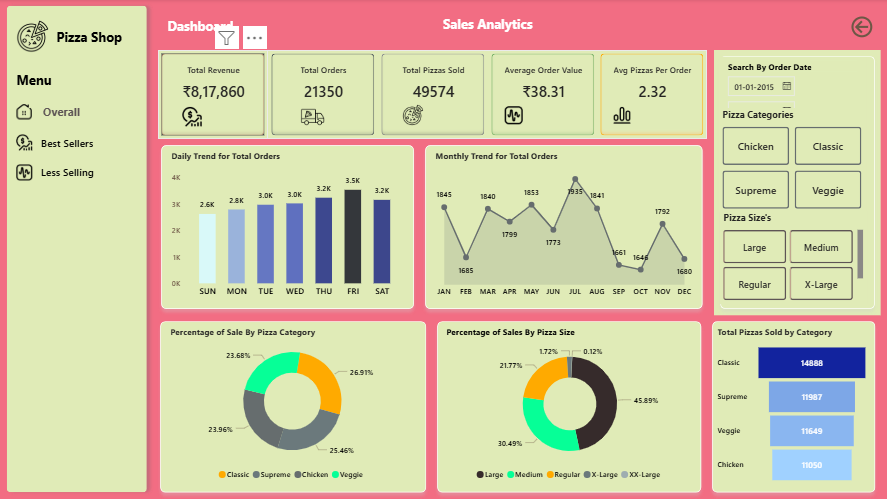

The dashboard page shown, as its layout file describes it:
{"tool":"powerbi","page":{"name":"Overall","canvas":[1280,720],"ordinal":0},"visuals":[{"type":"shape","box":[0,0,221,720],"z":0},{"type":"textbox","box":[76,37,122,37],"z":1000},{"type":"image","box":[19,23,57,60],"z":2000},{"type":"textbox","box":[236.2,21.2,150,37.5],"z":3000},{"type":"cardVisual","fields":{"Data":["pizza_sales.Total Revenue"]},"box":[227.4,73.6,158.2,128.4],"z":4000,"group":"g1"},{"type":"shape","box":[222.7,201.8,381.8,253.6],"z":4000},{"type":"cardVisual","fields":{"Data":["pizza_sales.Total Orders"]},"box":[385.6,73.6,158.2,128.4],"z":5000,"group":"g1"},{"type":"shape","box":[603.6,201.8,417.3,253.6],"z":5000},{"type":"cardVisual","fields":{"Data":["pizza_sales.Avg Order Value"]},"box":[702,73.6,158.2,128.4],"z":6000,"group":"g1"},{"type":"columnChart","title":"Daily Trend for Total Orders ","fields":{"Category":["pizza_sales.Order Day"],"Y":["pizza_sales.Total Orders"]},"box":[242,218,343,222],"z":6000},{"type":"cardVisual","fields":{"Data":["pizza_sales.Total Pizzas Sold"]},"box":[543.6,73.6,158.2,128],"z":7000,"group":"g1"},{"type":"areaChart","title":"Monthly Trend for Total Orders","fields":{"Category":["pizza_sales.Order Month"],"Y":["pizza_sales.Total Orders"]},"box":[622,218,381,222],"z":7000},{"type":"cardVisual","fields":{"Data":["pizza_sales.Avg Pizza Per Order"]},"box":[860.2,73.6,158.2,128.4],"z":8000,"group":"g1"},{"type":"shape","box":[221.8,455.5,400.9,264.5],"z":8000},{"type":"shape","box":[620.9,455.5,398.2,264.5],"z":9000},{"type":"donutChart","title":"Percentage of Sale By Pizza Category","fields":{"Category":["pizza_sales.pizza_category"],"Y":["pizza_sales.Total Revenue"]},"box":[241,471,361,232],"z":10000},{"type":"donutChart","title":"Percentage of Sales By Pizza Size","fields":{"Y":["pizza_sales.Total Revenue"],"Category":["pizza_sales.pizza_size"]},"box":[637.3,470.9,365.5,231.8],"z":11000},{"type":"group","id":"g1","title":"Group 1","box":[227.4,73.6,791.1,128.4],"z":12000},{"type":"shape","box":[1028.2,73.4,240.5,381.6],"z":13000},{"type":"slicer","fields":{"Values":["pizza_sales.order_date"]},"box":[1035.4,83.5,211.7,100.8],"z":14000},{"type":"textbox","box":[19,100,150,38],"z":15000},{"type":"image","box":[19.2,146,32.4,33.6],"z":16000},{"type":"pageNavigator","box":[59.3,144,146,116],"z":17000},{"type":"shape","box":[1016.4,455.5,252.7,264.5],"z":18000},{"type":"funnel","title":"Total Pizzas Sold by Category","fields":{"Category":["pizza_sales.pizza_category"],"Y":["pizza_sales.Total Pizzas Sold"]},"box":[1028,471,228,232],"z":19000},{"type":"advancedSlicerVisual","title":"Pizza Categories","fields":{"Values":["pizza_sales.pizza_category"]},"box":[1035.8,156.7,211.7,150],"z":20000},{"type":"advancedSlicerVisual","title":"Pizza Size''s","fields":{"Values":["pizza_sales.pizza_size"]},"box":[1037.5,305.8,211.7,134.2],"z":21000},{"type":"image","box":[14,190.7,40,32.7],"z":22000},{"type":"image","box":[11.3,232.7,47.3,32.7],"z":23000},{"type":"actionButton","box":[1221.2,20,47.5,40],"z":24000},{"type":"textbox","box":[605,18,195,38],"z":25000}]}

Visuals, with their boxes in screenshot pixels (x1, y1, x2, y2), scaled from the page's 1280x720 canvas onto the 887x499 screenshot:
shape: region(0, 0, 153, 498)
textbox: region(53, 26, 137, 51)
image: region(13, 16, 53, 58)
textbox: region(164, 15, 268, 41)
cardVisual - pizza_sales.Total Revenue: region(158, 51, 267, 140)
shape: region(154, 140, 419, 316)
cardVisual - pizza_sales.Total Orders: region(267, 51, 377, 140)
shape: region(418, 140, 707, 316)
cardVisual - pizza_sales.Avg Order Value: region(486, 51, 596, 140)
"Daily Trend for Total Orders " columnChart: region(168, 151, 405, 305)
cardVisual - pizza_sales.Total Pizzas Sold: region(377, 51, 486, 140)
"Monthly Trend for Total Orders" areaChart: region(431, 151, 695, 305)
cardVisual - pizza_sales.Avg Pizza Per Order: region(596, 51, 706, 140)
shape: region(154, 316, 432, 498)
shape: region(430, 316, 706, 498)
"Percentage of Sale By Pizza Category" donutChart: region(167, 326, 417, 487)
"Percentage of Sales By Pizza Size" donutChart: region(442, 326, 695, 487)
"Group 1" group: region(158, 51, 706, 140)
shape: region(713, 51, 879, 315)
slicer - pizza_sales.order_date: region(717, 58, 864, 128)
textbox: region(13, 69, 117, 96)
image: region(13, 101, 36, 124)
pageNavigator: region(41, 100, 142, 180)
shape: region(704, 316, 879, 498)
"Total Pizzas Sold by Category" funnel: region(712, 326, 870, 487)
"Pizza Categories" advancedSlicerVisual: region(718, 109, 864, 213)
"Pizza Size''s" advancedSlicerVisual: region(719, 212, 866, 305)
image: region(10, 132, 37, 155)
image: region(8, 161, 41, 184)
actionButton: region(846, 14, 879, 42)
textbox: region(419, 12, 554, 39)
